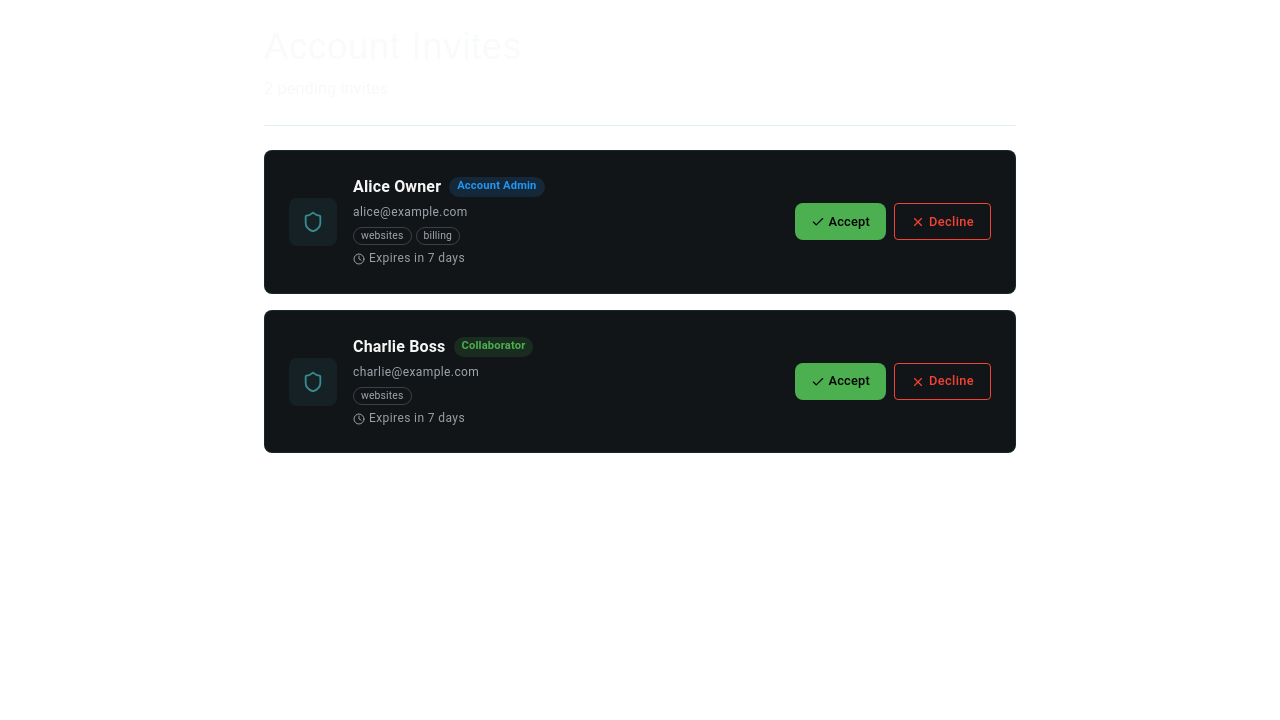
Test: AccountInvitesPage › decline invite shows confirmation dialog
The image size is (1280, 720).
Expected: the element with test id "account-invites-list" is shown, [264,150,1016,453]
Click the button with test id "decline-btn-1" at coordinates (942, 222), box [894,203,991,240]
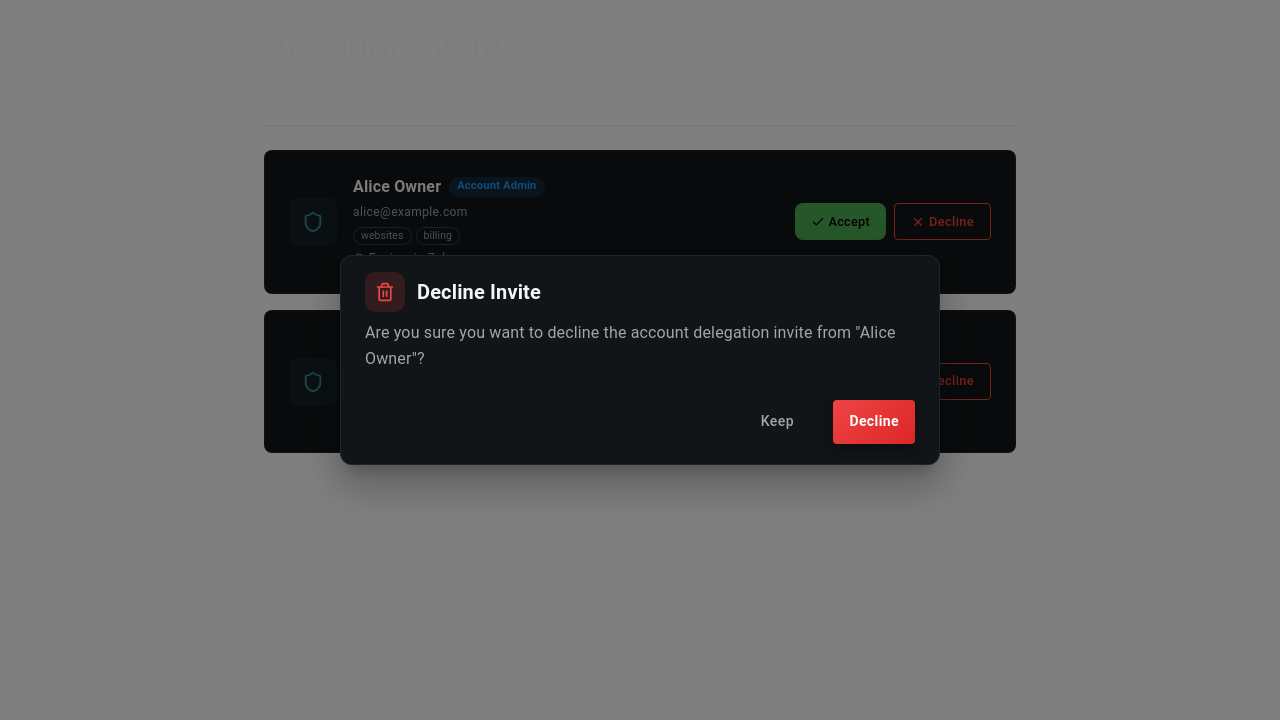
Result: the text "Decline Invite" is shown at [417,276,541,308]
Result: the text "Are you sure" is shown at [365,323,896,368]
